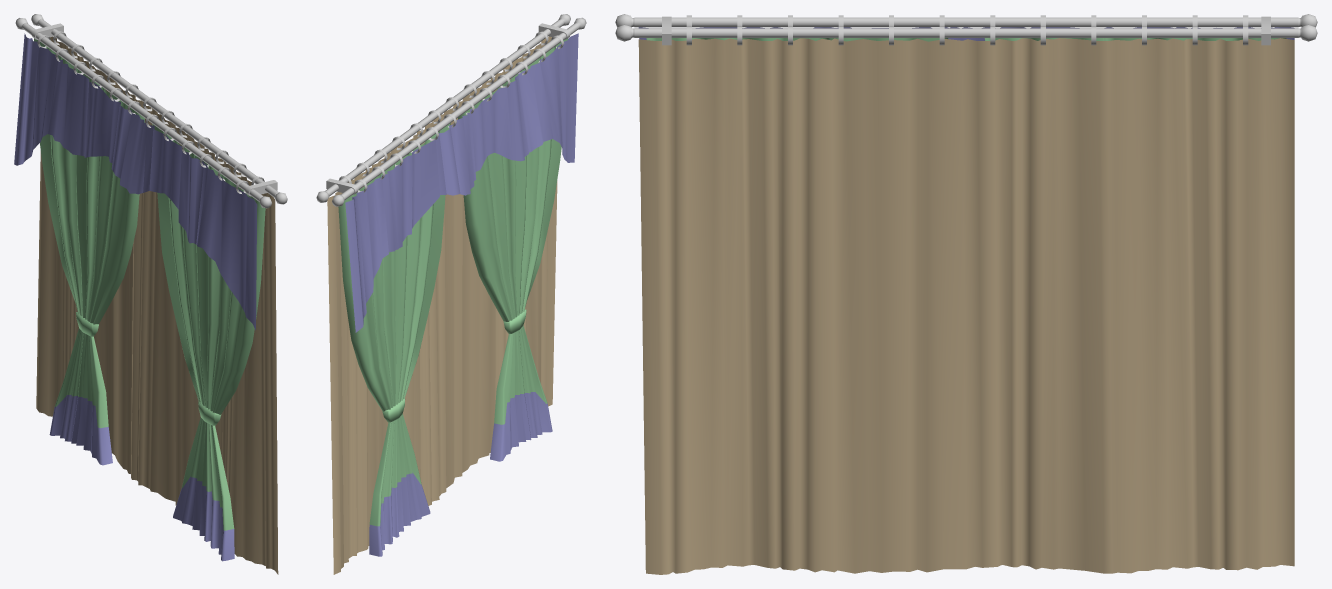
File: CLTY01.FBX
3 renders of one model, left to right at view 1: azimuth 30°, elevation 25°; view 2: azimuth 150°, elevation 25°; view 3: azimuth 270°, elevation 25°, orthographic. The views are drawn at different scales.
Parts seen in each view (by area): view 1: CLTY01; view 2: CLTY01; view 3: CLTY01.
Boxes of the visible parts, x1,y1,x2,y2 form: CLTY01: [14, 14, 287, 574]; CLTY01: [316, 14, 586, 574]; CLTY01: [615, 14, 1317, 574].
Bounding box in the file's own units: 26.42 × 280 × 240.
